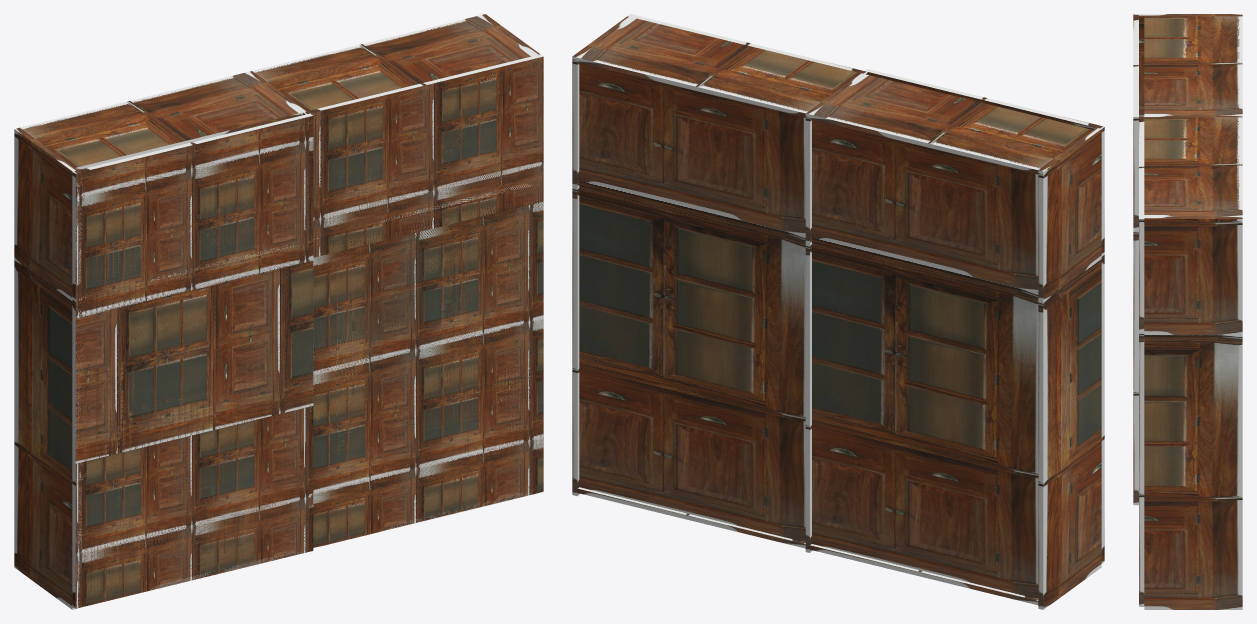
3 views of the same model, side by side, from view 1: azimuth 30°, elevation 25°; view 2: azimuth 150°, elevation 25°; view 3: azimuth 270°, elevation 25° (orthographic). The views are drawn at different scales.
Visible parts, largest first — view 1: mesh1_mesh1-geometry, mesh3_mesh3-geometry, mesh11_mesh11-geometry, mesh23_mesh23-geometry, mesh25_mesh25-geometry; view 2: mesh7_mesh7-geometry, mesh15_mesh15-geometry, mesh11_mesh11-geometry, mesh23_mesh23-geometry, mesh25_mesh25-geometry, mesh9_mesh9-geometry, mesh13_mesh13-geometry, mesh1_mesh1-geometry, mesh19_mesh19-geometry, mesh5_mesh5-geometry, mesh3_mesh3-geometry; view 3: mesh9_mesh9-geometry, mesh23_mesh23-geometry, mesh25_mesh25-geometry, mesh1_mesh1-geometry, mesh3_mesh3-geometry, mesh11_mesh11-geometry, mesh13_mesh13-geometry.
Part boxes in pixels (x1,y1,x2,y2): mesh1_mesh1-geometry: (72, 113, 313, 608); mesh3_mesh3-geometry: (303, 54, 543, 547); mesh11_mesh11-geometry: (14, 127, 77, 609); mesh23_mesh23-geometry: (20, 72, 302, 169); mesh25_mesh25-geometry: (252, 15, 534, 111); mesh7_mesh7-geometry: (812, 119, 1038, 598); mesh15_mesh15-geometry: (579, 62, 805, 542); mesh11_mesh11-geometry: (1038, 127, 1101, 609); mesh23_mesh23-geometry: (810, 74, 1092, 174); mesh25_mesh25-geometry: (577, 17, 860, 117); mesh9_mesh9-geometry: (572, 16, 632, 496); mesh13_mesh13-geometry: (805, 73, 864, 552); mesh1_mesh1-geometry: (864, 69, 1104, 563); mesh19_mesh19-geometry: (810, 544, 1038, 605); mesh5_mesh5-geometry: (577, 487, 805, 548); mesh3_mesh3-geometry: (627, 14, 867, 74); mesh9_mesh9-geometry: (1144, 216, 1242, 609); mesh23_mesh23-geometry: (1144, 16, 1242, 115); mesh25_mesh25-geometry: (1144, 117, 1242, 216); mesh1_mesh1-geometry: (1133, 14, 1138, 505); mesh3_mesh3-geometry: (1139, 115, 1144, 606); mesh11_mesh11-geometry: (1139, 14, 1242, 115); mesh13_mesh13-geometry: (1144, 115, 1242, 117).
Bounding box in the file's own units: 0.7369 × 0.6553 × 0.1658.
